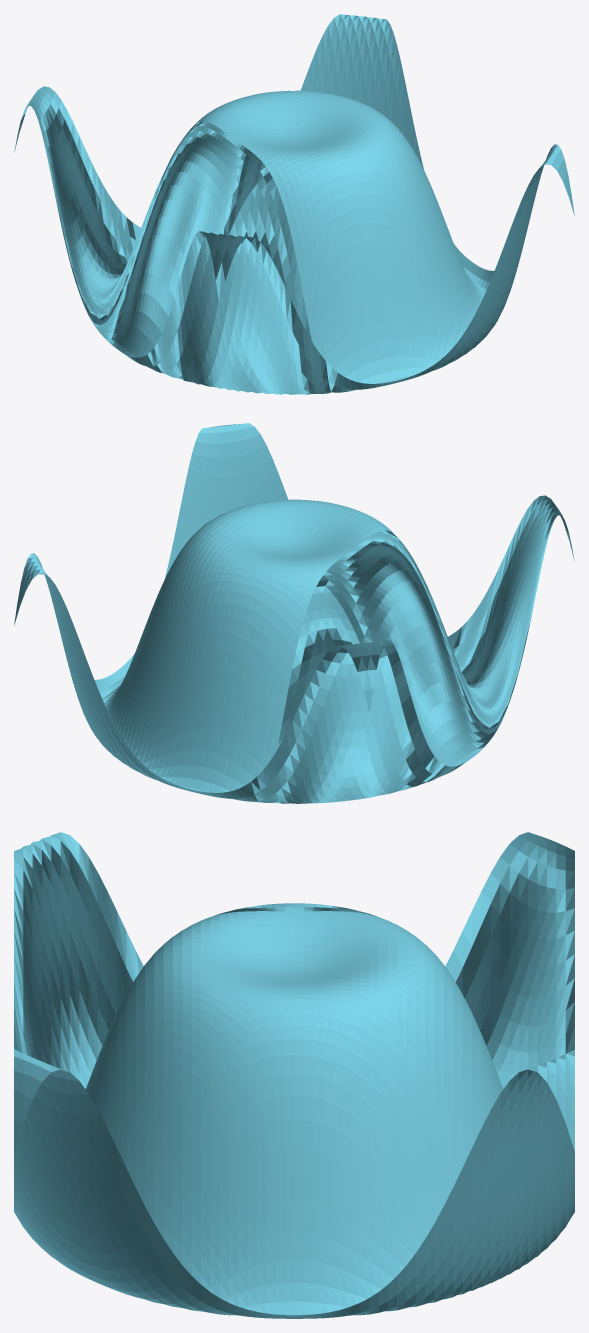
File: math.cos(x**2+y**2-0.5)-0.5.obj
The picture shows the model from 3 angles, top to bottom: view 1: azimuth 30°, elevation 25°; view 2: azimuth 150°, elevation 25°; view 3: azimuth 270°, elevation 25°; orthographic projection. The views are drawn at different scales.
Bounding box in the file's own units: 4 × 2 × 4.
